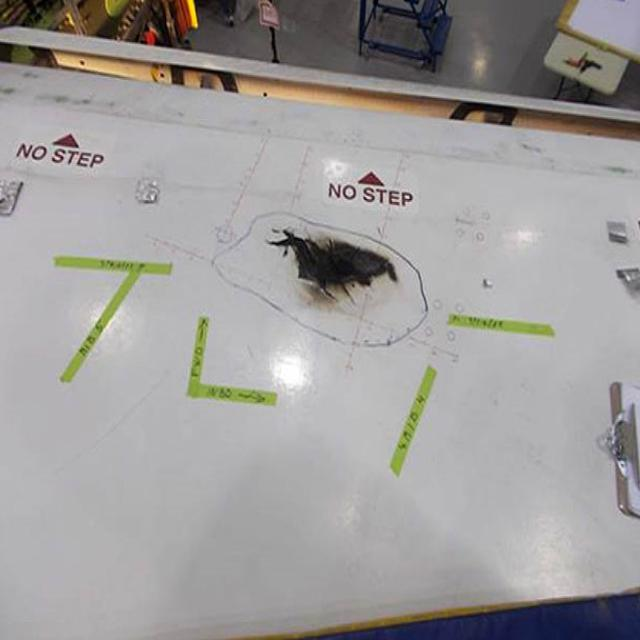Rupture: (265, 228, 400, 303)
